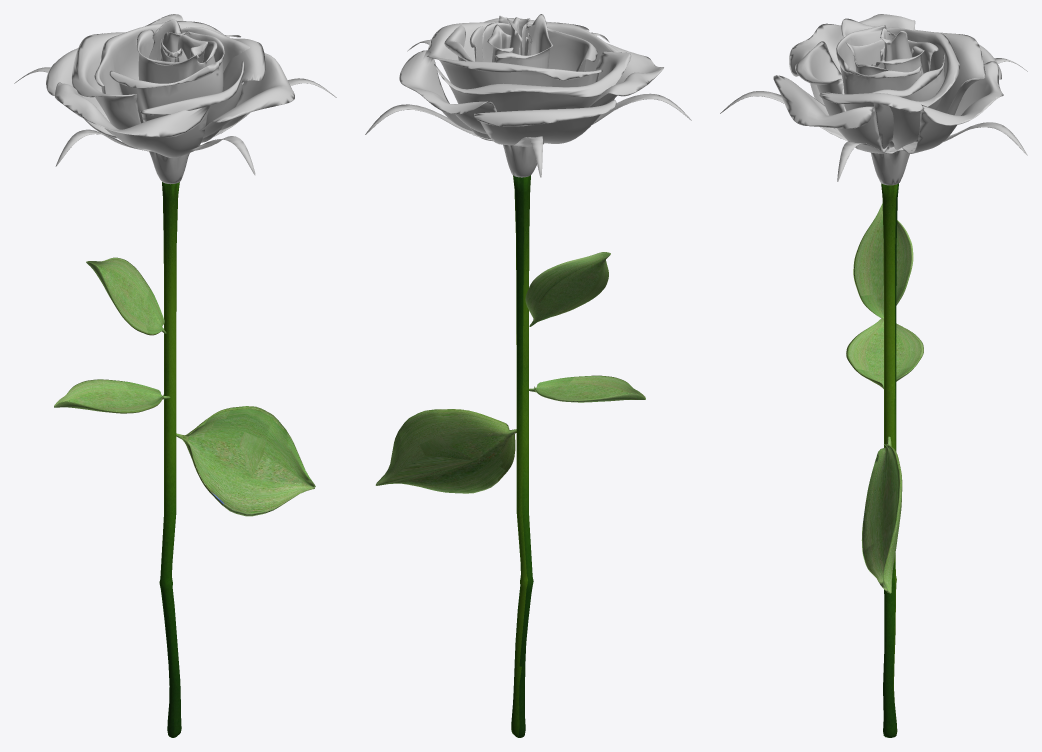
Rendered from rose.fbx.
3 views of the same model, side by side, from view 1: azimuth 30°, elevation 25°; view 2: azimuth 150°, elevation 25°; view 3: azimuth 270°, elevation 25° (orthographic).
Parts seen in each view (by area): view 1: Mesh, pCube1, pCylinder1, pCube2, pCube3; view 2: Mesh, pCube1, pCylinder1, pCube2, pCube3; view 3: Mesh, pCylinder1, pCube1, pCube2, pCube3.
Part boxes in pixels (bbox=[...]): Mesh: bbox=[14, 14, 336, 184]; pCube1: bbox=[176, 406, 315, 516]; pCylinder1: bbox=[159, 182, 181, 737]; pCube2: bbox=[86, 257, 166, 335]; pCube3: bbox=[54, 379, 170, 413]; Mesh: bbox=[365, 14, 691, 177]; pCube1: bbox=[375, 409, 516, 493]; pCylinder1: bbox=[511, 175, 533, 737]; pCube2: bbox=[525, 252, 610, 326]; pCube3: bbox=[529, 375, 645, 402]; Mesh: bbox=[720, 14, 1027, 185]; pCylinder1: bbox=[881, 183, 898, 737]; pCube1: bbox=[861, 436, 902, 593]; pCube2: bbox=[853, 203, 913, 318]; pCube3: bbox=[846, 318, 923, 388].
Size of the model in its own units: 36.21 by 86.17 by 33.89.
